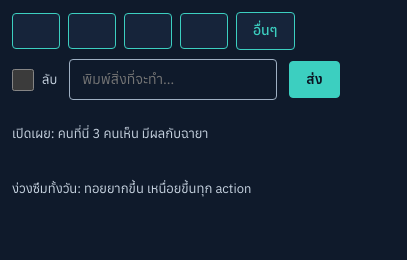
Test case: C2 action bar on a phone (GEN-134: four icons from the mockup + อื่นๆ) › GEN-134 C1/C2: four icon buttons with only an aria-label, and อื่นๆ that lists the other four with words
Expected: the button named "พูดคุย" is empty, [12,13,60,49]
Expected: the button named "สังเกต" is empty, [68,13,116,49]
What coordinates should you click on to do the following:
click the button "อื่นๆ"
I would click on:
 (265, 31)
Its box is [236,12,295,50].
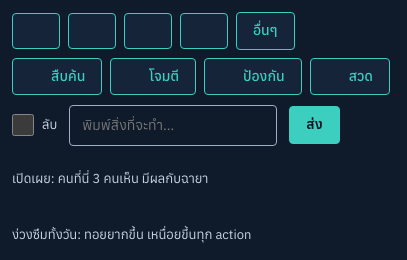
Result: the button "สืบค้น" is shown at [12,58,102,95]
Result: the button "โจมตี" is shown at [110,58,196,95]
Result: the button "ป้องกัน" is shown at [204,58,302,95]
